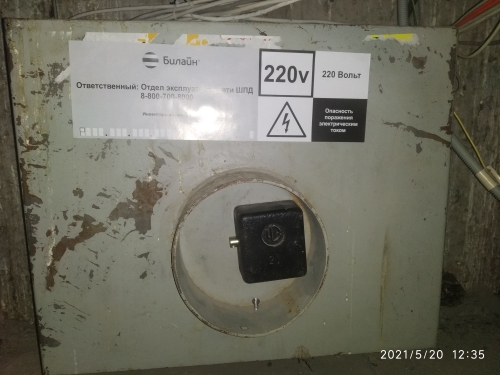shta-3: (1, 17, 460, 370)
